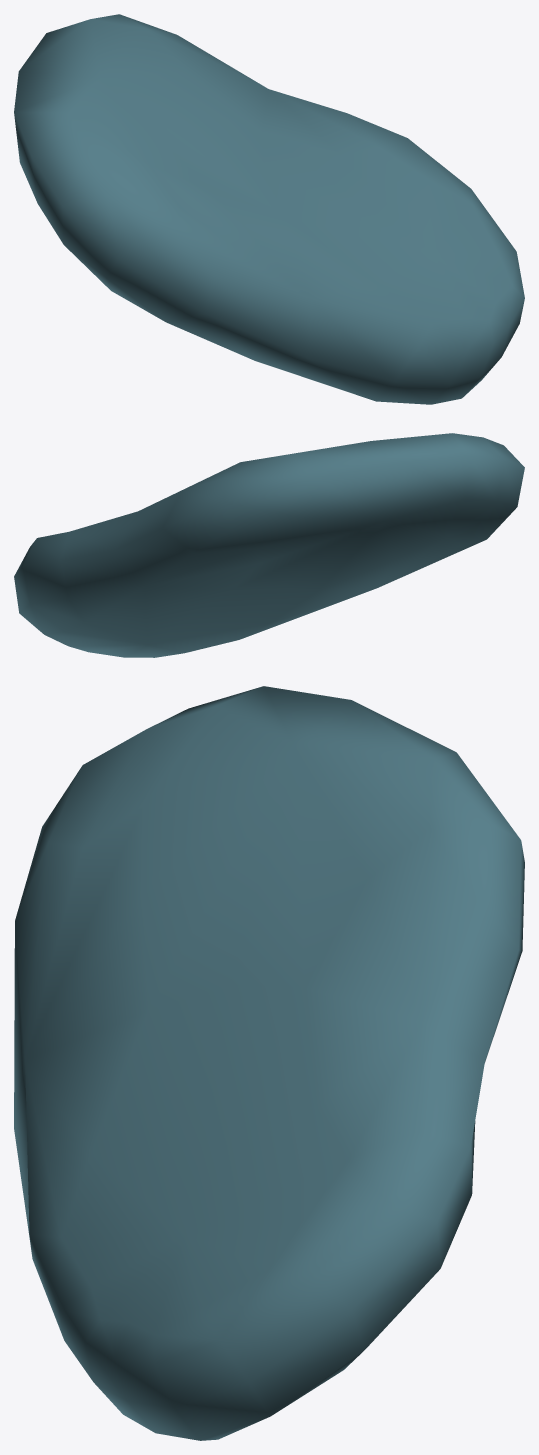
Rendered from Flexor_digitorum_longus_4th_distal_phalanx_left.glb.
The picture shows the model from 3 angles, top to bottom: view 1: azimuth 30°, elevation 25°; view 2: azimuth 150°, elevation 25°; view 3: azimuth 270°, elevation 25°; orthographic projection. The views are drawn at different scales.
Parts seen in each view (by area): view 1: Flexor_digitorum_longus_on_4th_distal_phalanx.l_Generated_Me; view 2: Flexor_digitorum_longus_on_4th_distal_phalanx.l_Generated_Me; view 3: Flexor_digitorum_longus_on_4th_distal_phalanx.l_Generated_Me.
Part boxes in pixels (box(x1,y1,x2,y2)): Flexor_digitorum_longus_on_4th_distal_phalanx.l_Generated_Me: box(14, 14, 524, 404); Flexor_digitorum_longus_on_4th_distal_phalanx.l_Generated_Me: box(14, 433, 524, 657); Flexor_digitorum_longus_on_4th_distal_phalanx.l_Generated_Me: box(14, 686, 524, 1440).
Size of the model in its own units: 0.00254 by 0.00176 by 0.00165.
